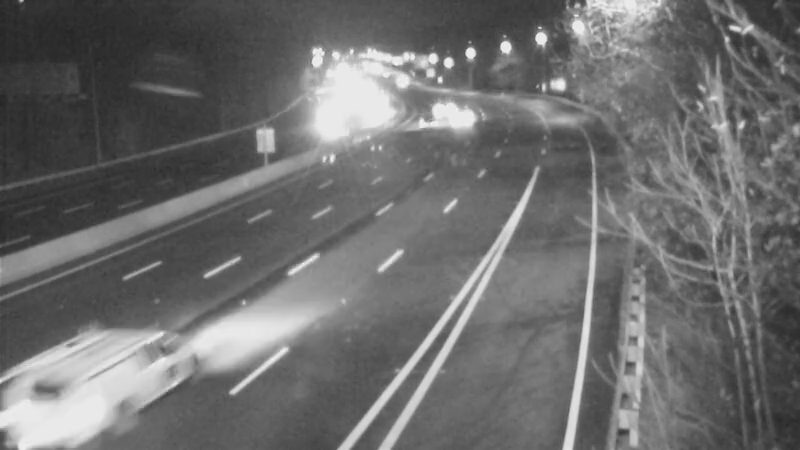vehicle: (32, 338, 142, 448), (413, 84, 463, 134), (435, 94, 485, 144), (404, 95, 454, 145)
